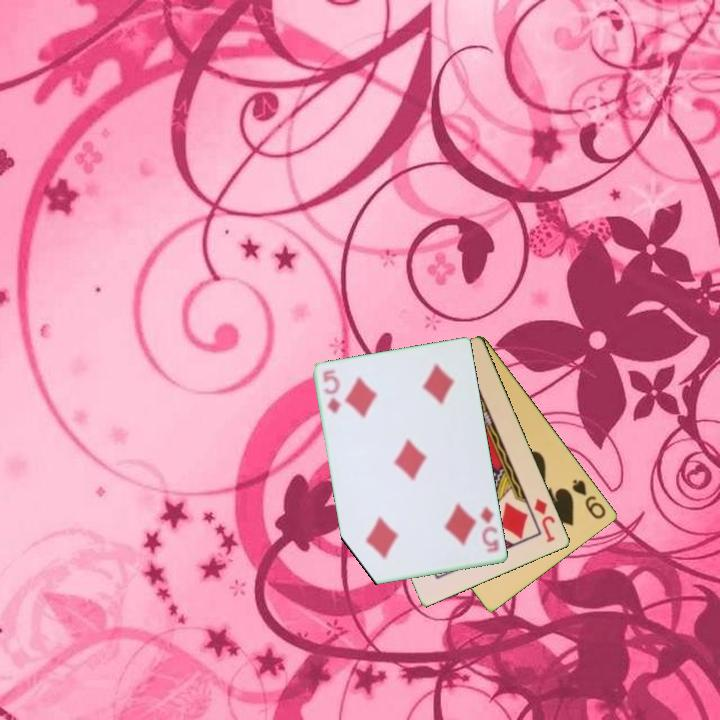5d: (478, 503, 503, 556), (319, 367, 344, 416)
9s: (569, 475, 609, 522)
Jd: (531, 495, 559, 545)
